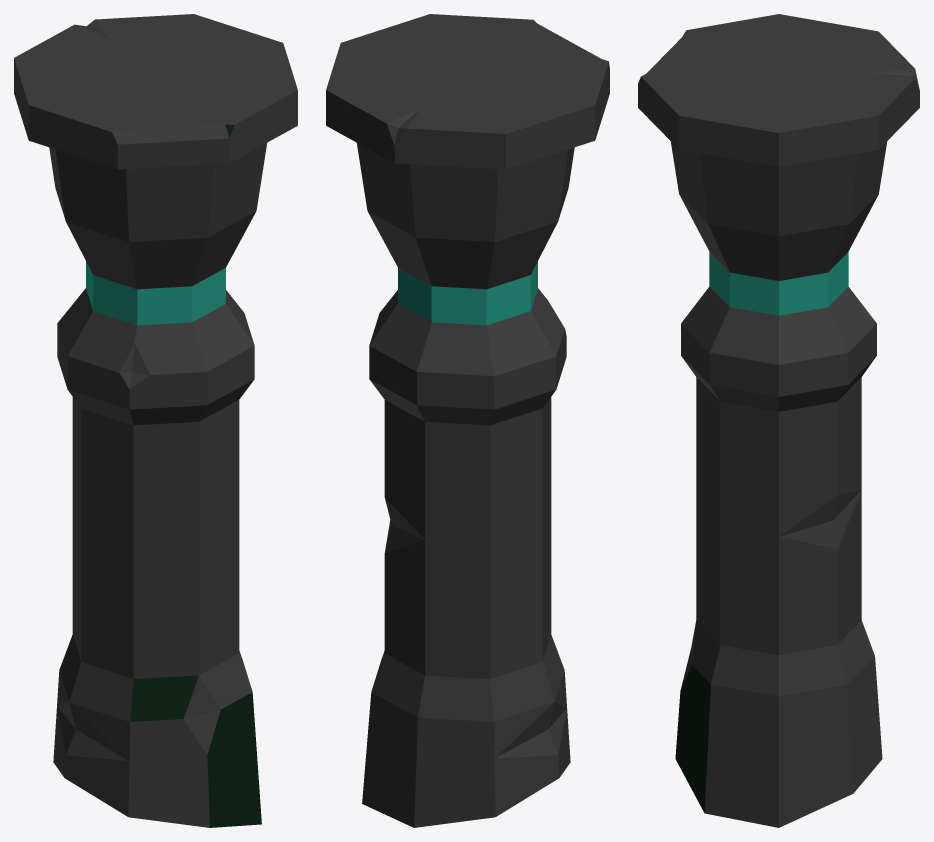
File: Column_Short_Broken02_FBX.fbx
3 views of the same model, side by side, from view 1: azimuth 30°, elevation 25°; view 2: azimuth 150°, elevation 25°; view 3: azimuth 270°, elevation 25° (orthographic). The views are drawn at different scales.
Parts seen in each view (by area): view 1: Object003; view 2: Object003; view 3: Object003.
Boxes of the visible parts, x1,y1,x2,y2 form: Object003: (14, 14, 297, 827); Object003: (326, 14, 609, 827); Object003: (638, 14, 919, 827).
Bounding box in the file's own units: 66.08 × 183 × 66.08.
